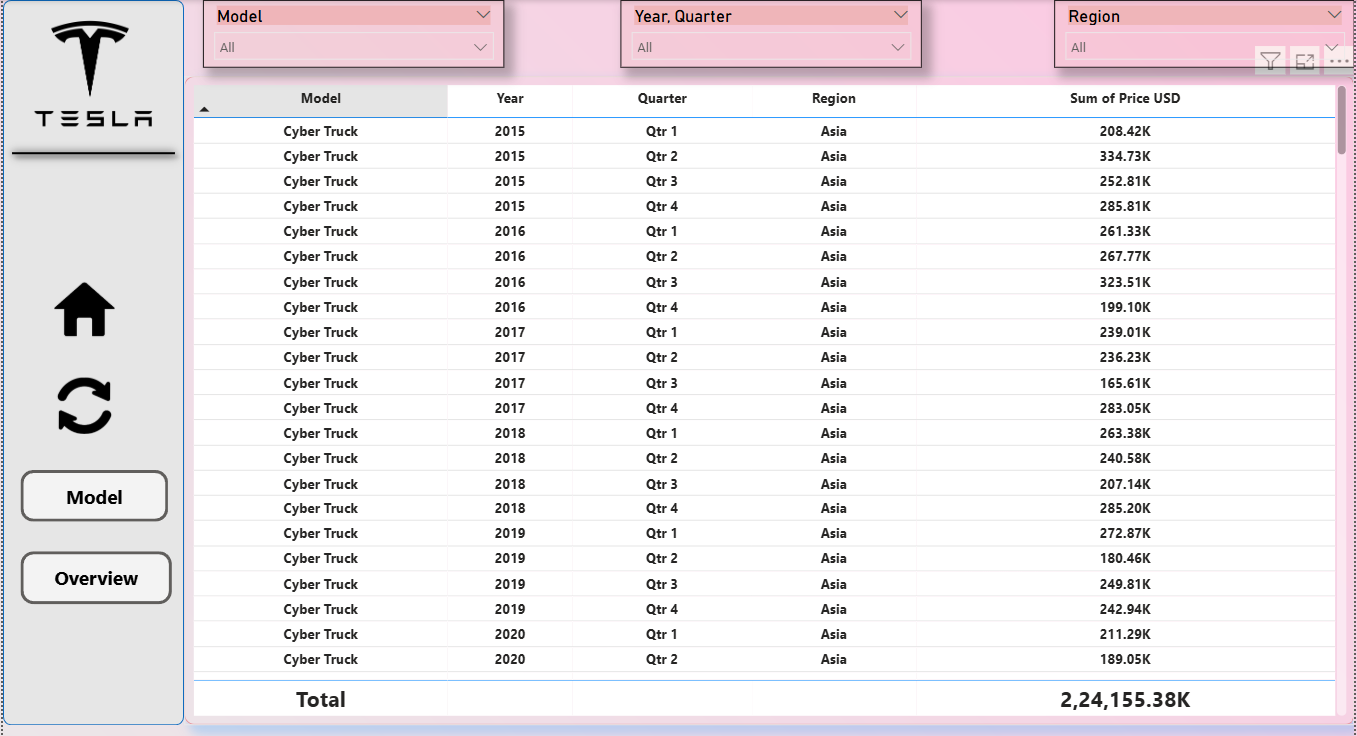

This screenshot's page, from the dashboard's own definition file:
{"tool":"powerbi","page":{"name":"Details","canvas":[1343,731],"ordinal":3},"visuals":[{"type":"tableEx","fields":{"Values":["tesla_deliveries_dataset_2015_2025.Model","tesla_deliveries_dataset_2015_2025.Date.Variation.Date Hierarchy.Year","tesla_deliveries_dataset_2015_2025.Date.Variation.Date Hierarchy.Quarter","tesla_deliveries_dataset_2015_2025.Region","Sum(tesla_deliveries_dataset_2015_2025.Price USD)"]},"box":[180,75.7,1163.3,644.3],"z":0},{"type":"shape","box":[0,0,179.8,720.2],"z":1000},{"type":"image","box":[51.4,239.7,59.9,135.7],"z":2000},{"type":"image","box":[51.4,375.4,59.9,56.3],"z":3000},{"type":"image","box":[0,67.3,179.8,101.5],"z":4000},{"type":"image","box":[0,0,172.4,118.6],"z":5000},{"type":"shape","box":[0,117.4,179.8,68.5],"z":6000},{"type":"actionButton","box":[17.1,467.1,146.7,51.4],"z":7000},{"type":"actionButton","box":[17.1,547.8,150.4,52.6],"z":8000},{"type":"slicer","fields":{"Values":["Tesla Car Dataset-(2015-2025).Model"]},"box":[198.6,0,299.2,67],"z":9000},{"type":"slicer","fields":{"Values":["Tesla Car Dataset-(2015-2025).Region"]},"box":[1044.1,0,299.2,67],"z":10000},{"type":"slicer","fields":{"Values":["Tesla Car Dataset-(2015-2025).Date.Variation.Date Hierarchy.Year","Tesla Car Dataset-(2015-2025).Date.Variation.Date Hierarchy.Quarter"]},"box":[613.3,0,299.2,67],"z":11000}]}

Visuals, with their boxes on the page's 1343x731 design canvas (x1, y1, x2, y2). These are canvas units, not pixel positions in the 1357x736 screenshot, which may show the page scaled, cropped or inside an application window:
tableEx - tesla_deliveries_dataset_2015_2025.Model x tesla_deliveries_dataset_2015_2025.Date.Variation.Date Hierarchy.Year: l=180, t=76, r=1343, b=720
shape: l=0, t=0, r=180, b=720
image: l=51, t=240, r=111, b=375
image: l=51, t=375, r=111, b=432
image: l=0, t=67, r=180, b=169
image: l=0, t=0, r=172, b=119
shape: l=0, t=117, r=180, b=186
actionButton: l=17, t=467, r=164, b=518
actionButton: l=17, t=548, r=168, b=600
slicer - Tesla Car Dataset-(2015-2025).Model: l=199, t=0, r=498, b=67
slicer - Tesla Car Dataset-(2015-2025).Region: l=1044, t=0, r=1343, b=67
slicer - Tesla Car Dataset-(2015-2025).Date.Variation.Date Hierarchy.Year x Tesla Car Dataset-(2015-2025).Date.Variation.Date Hierarchy.Quarter: l=613, t=0, r=912, b=67
